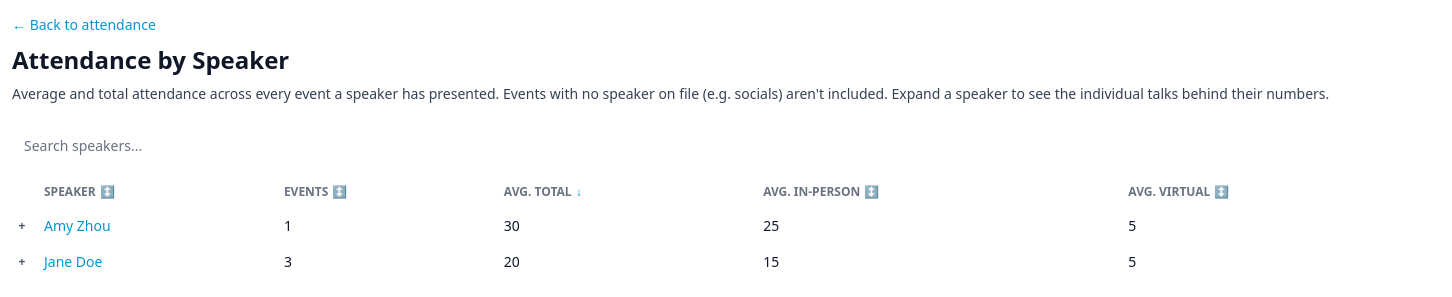
Test: AttendanceBySpeakerPage › filters speakers by search term
expect the table is shown: met, box [12,176,1451,280]
Type "amy" into the field with placeholder "Search speakers...". click: (172, 146)
box: [12,128,332,164]
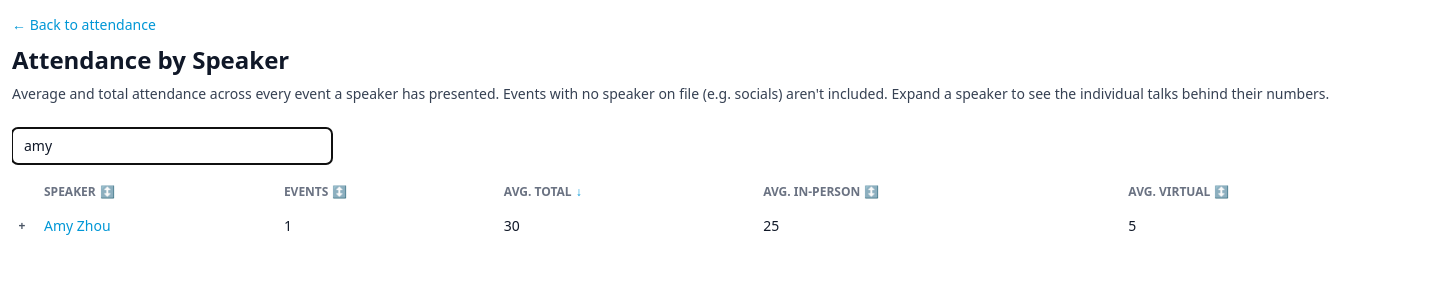
expect the link "Amy Zhou" is shown: met, box [44,216,111,235]
expect the link "Jane Doe" is gone: met
